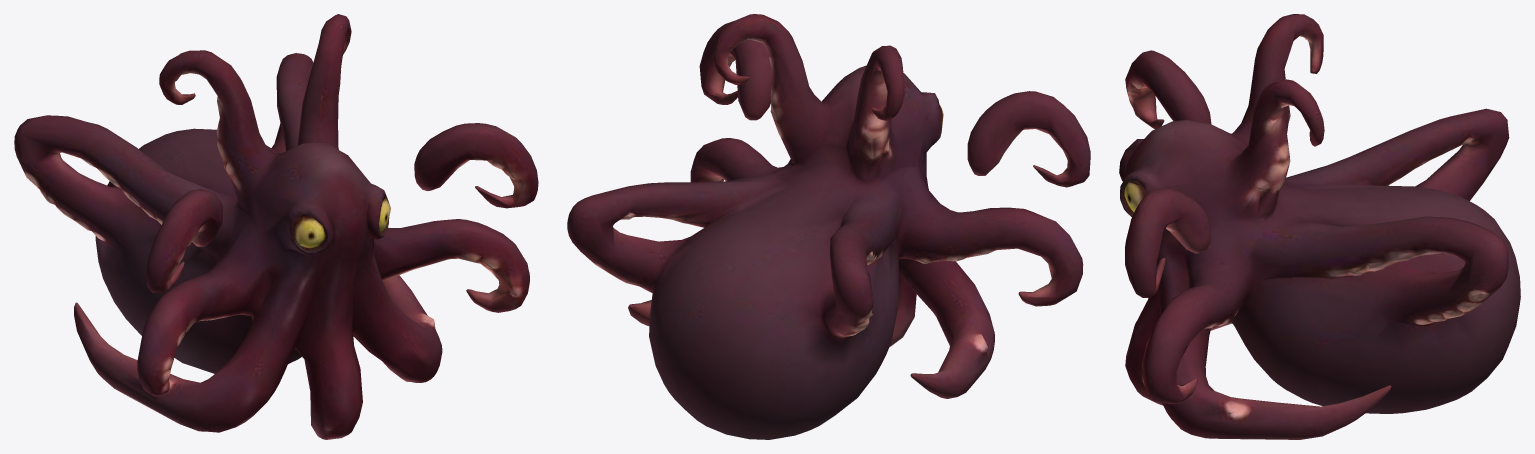
File: kraken.glb
The picture shows the model from 3 angles, left to right: view 1: azimuth 30°, elevation 25°; view 2: azimuth 150°, elevation 25°; view 3: azimuth 270°, elevation 25°; orthographic projection.
Parts seen in each view (by area): view 1: Mesh; view 2: Mesh; view 3: Mesh.
Boxes of the visible parts, x1,y1,x2,y2 form: Mesh: [14, 14, 538, 439]; Mesh: [567, 14, 1090, 439]; Mesh: [1119, 14, 1520, 439].
Size of the model in its own units: 1.9 by 1.68 by 1.71.
1 material, 1 textured.
